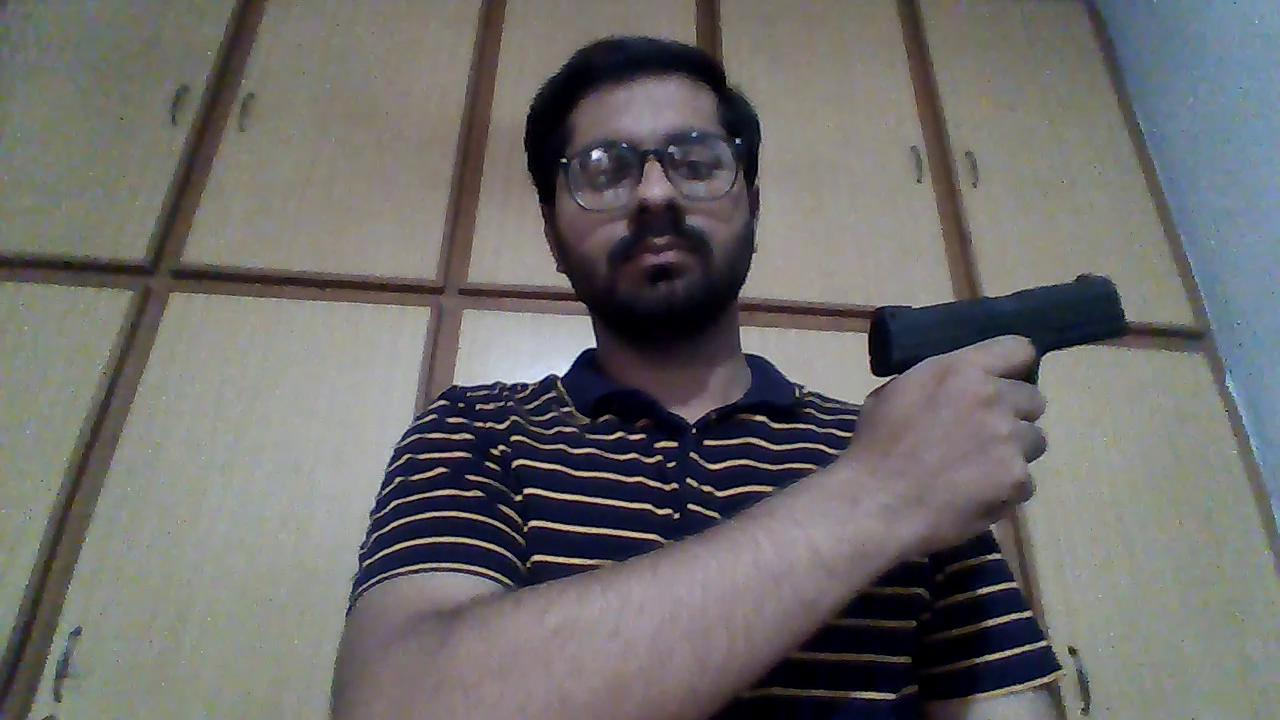criminal: (326, 35, 1131, 720)
weapon: (863, 274, 1130, 389)
